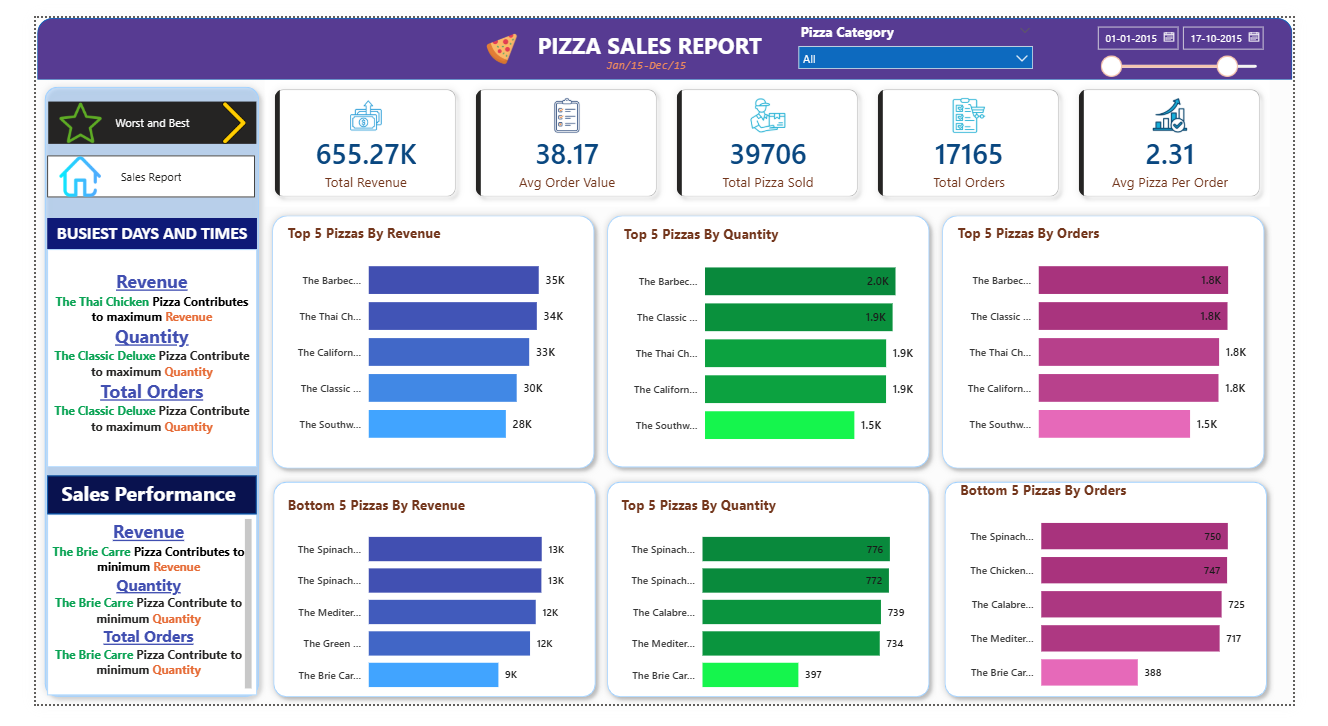

Layout of this report page (visuals, bound fields, positions):
{"tool":"powerbi","page":{"name":"Worst and Best","canvas":[1500,820],"ordinal":1},"visuals":[{"type":"cardVisual","fields":{"Data":["pizza_sales.Totatalprice","pizza_sales.AvgOrder","pizza_sales.TotalPizzaSold","pizza_sales.TotalOrder","pizza_sales.AvgPizzaPerOrder"]},"box":[273.8,73.8,1202.5,152.5],"z":0},{"type":"shape","box":[1.2,0,1498.8,73.8],"z":1000},{"type":"textbox","box":[593.8,8.8,288.8,50],"z":2000},{"type":"textbox","box":[676.2,42.5,125,31.2],"z":3000},{"type":"image","box":[537.5,15,37.5,43.8],"z":4000},{"type":"shape","box":[273.8,226.2,402.5,320],"z":5000},{"type":"shape","box":[1.2,73.8,273.8,746.2],"z":6000},{"type":"textbox","box":[13.8,238.8,250,37.5],"z":7000},{"type":"textbox","box":[13.8,276.2,250,260],"z":8000},{"type":"textbox","box":[13.8,592.5,250,216.2],"z":9000},{"type":"shape","box":[13.8,546.2,250,46.2],"z":10000},{"type":"textbox","box":[25,546.2,237.5,50],"z":11000},{"type":"slicer","fields":{"Values":["pizza_sales.order_date"]},"box":[1255,0,223.8,73.8],"z":12000},{"type":"slicer","fields":{"Values":["pizza_sales.pizza_category"]},"box":[900,0,300,73.8],"z":13000},{"type":"shape","box":[1073.8,226.2,402.5,320],"z":14000},{"type":"shape","box":[673.8,226.2,402.5,318.8],"z":15000},{"type":"shape","box":[275,545,402.5,275],"z":16000},{"type":"shape","box":[1076.2,545,402.5,275],"z":17000},{"type":"shape","box":[673.8,545,402.5,275],"z":18000},{"type":"barChart","title":"Top 5 Pizzas By Revenue","fields":{"Category":["pizza_sales.pizza_name"],"Y":["Sum(pizza_sales.total_price)"]},"box":[296.2,245,356.2,280],"z":19000},{"type":"barChart","title":"Bottom 5 Pizzas By Revenue","fields":{"Category":["pizza_sales.pizza_name"],"Y":["Sum(pizza_sales.total_price)"]},"box":[296.2,570,356.2,250],"z":20000},{"type":"barChart","title":"Top 5 Pizzas By Quantity","fields":{"Category":["pizza_sales.pizza_name"],"Y":["pizza_sales.TotalPizzaSold"]},"box":[697.5,246.2,356.2,280],"z":21000},{"type":"barChart","title":"Top 5 Pizzas By Orders","fields":{"Category":["pizza_sales.pizza_name"],"Y":["pizza_sales.TotalOrder"]},"box":[1096.2,245,356.2,280],"z":22000},{"type":"barChart","title":"Bottom 5 Pizzas By Orders","fields":{"Category":["pizza_sales.pizza_name"],"Y":["pizza_sales.TotalOrder"]},"box":[1098.8,552.5,356.2,267.5],"z":23000},{"type":"barChart","title":"Top 5 Pizzas By Quantity","fields":{"Category":["pizza_sales.pizza_name"],"Y":["pizza_sales.TotalPizzaSold"]},"box":[693.8,570,356.2,250],"z":24000},{"type":"pageNavigator","box":[15,100,248.8,50],"z":25000},{"type":"image","box":[138.8,100,196.2,50],"z":26000},{"type":"pageNavigator","box":[13.8,163.8,248.8,50],"z":27000},{"type":"image","box":[12.5,164.1,81.2,50],"z":28000},{"type":"image","box":[0,100,106.2,50],"z":29000}]}

Visuals, with their boxes in screenshot pixels (x1, y1, x2, y2), scaled from the page's 1500x820 canvas onto the 1328x726 screenshot:
cardVisual - pizza_sales.Totatalprice x pizza_sales.AvgOrder: [x1=242, y1=65, x2=1307, y2=200]
shape: [x1=1, y1=0, x2=1327, y2=65]
textbox: [x1=526, y1=8, x2=781, y2=52]
textbox: [x1=599, y1=38, x2=709, y2=65]
image: [x1=476, y1=13, x2=509, y2=52]
shape: [x1=242, y1=200, x2=599, y2=484]
shape: [x1=1, y1=65, x2=243, y2=725]
textbox: [x1=12, y1=211, x2=234, y2=245]
textbox: [x1=12, y1=245, x2=234, y2=475]
textbox: [x1=12, y1=525, x2=234, y2=716]
shape: [x1=12, y1=484, x2=234, y2=524]
textbox: [x1=22, y1=484, x2=232, y2=528]
slicer - pizza_sales.order_date: [x1=1111, y1=0, x2=1309, y2=65]
slicer - pizza_sales.pizza_category: [x1=797, y1=0, x2=1062, y2=65]
shape: [x1=951, y1=200, x2=1307, y2=484]
shape: [x1=597, y1=200, x2=953, y2=483]
shape: [x1=243, y1=483, x2=600, y2=725]
shape: [x1=953, y1=483, x2=1309, y2=725]
shape: [x1=597, y1=483, x2=953, y2=725]
"Top 5 Pizzas By Revenue" barChart: [x1=262, y1=217, x2=578, y2=465]
"Bottom 5 Pizzas By Revenue" barChart: [x1=262, y1=505, x2=578, y2=725]
"Top 5 Pizzas By Quantity" barChart: [x1=618, y1=218, x2=933, y2=466]
"Top 5 Pizzas By Orders" barChart: [x1=971, y1=217, x2=1286, y2=465]
"Bottom 5 Pizzas By Orders" barChart: [x1=973, y1=489, x2=1288, y2=725]
"Top 5 Pizzas By Quantity" barChart: [x1=614, y1=505, x2=930, y2=725]
pageNavigator: [x1=13, y1=89, x2=234, y2=133]
image: [x1=123, y1=89, x2=297, y2=133]
pageNavigator: [x1=12, y1=145, x2=232, y2=189]
image: [x1=11, y1=145, x2=83, y2=190]
image: [x1=0, y1=89, x2=94, y2=133]
